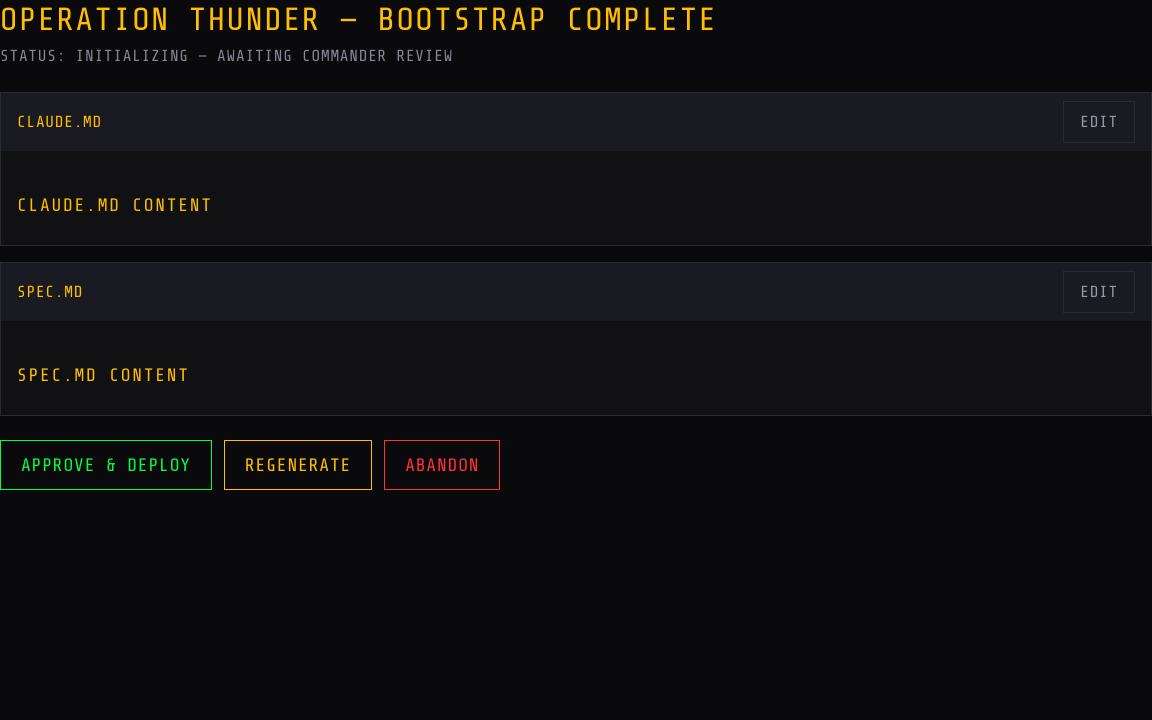
Test: BootstrapReview › disables action buttons while editing
Click the 1st button "EDIT": (1099, 122) x1=1063 y1=101 x2=1135 y2=143
(page scrolled)
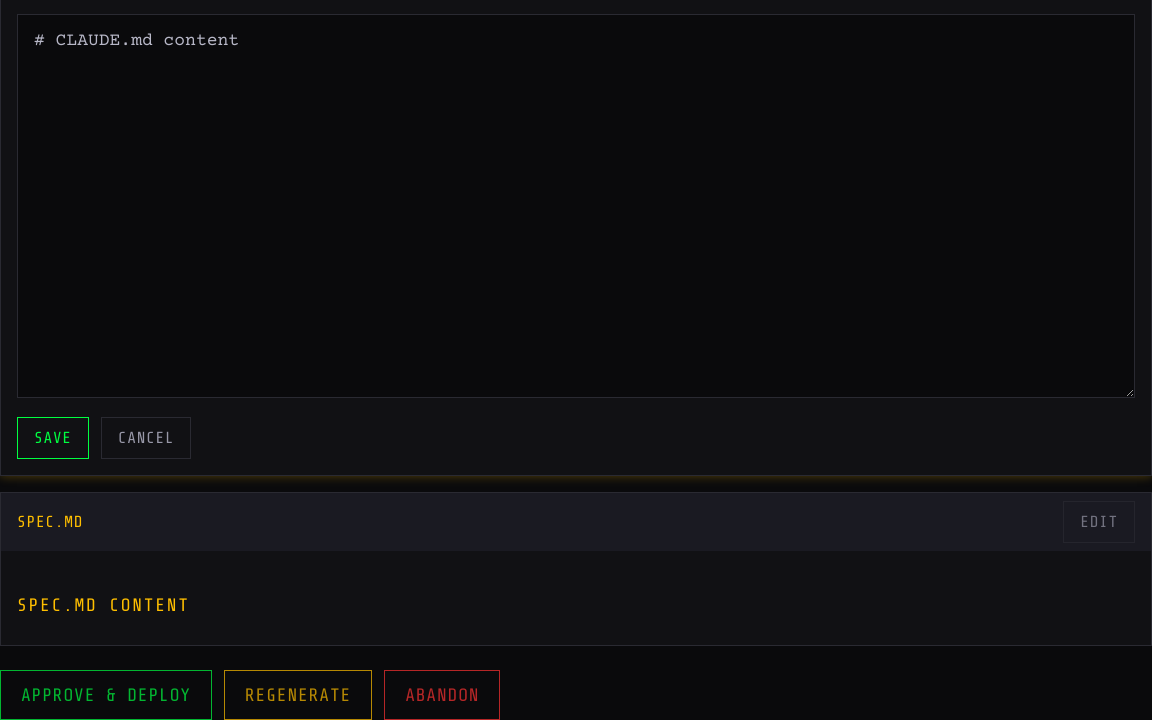
Check: the button "APPROVE & DEPLOY" is disabled, box x1=0 y1=670 x2=212 y2=719
Check: the button "REGENERATE" is disabled, box x1=224 y1=670 x2=372 y2=719
Check: the button "ABANDON" is disabled, box x1=384 y1=670 x2=500 y2=719
